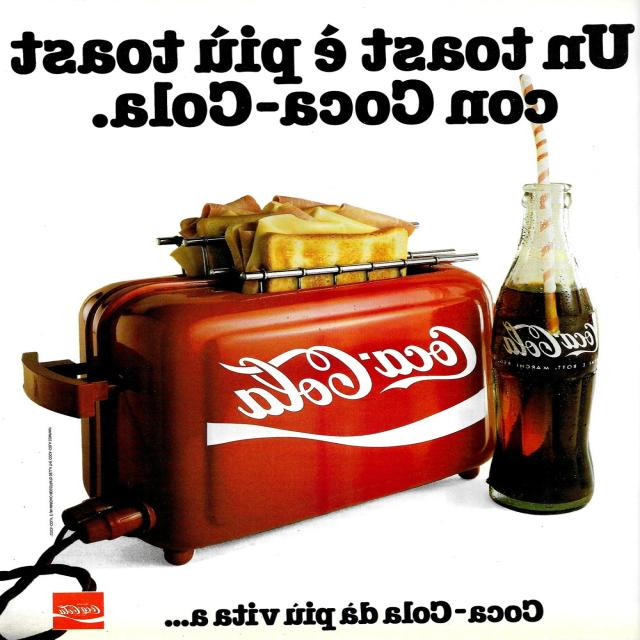coca cola: (215, 322, 485, 420), (496, 320, 596, 361)
